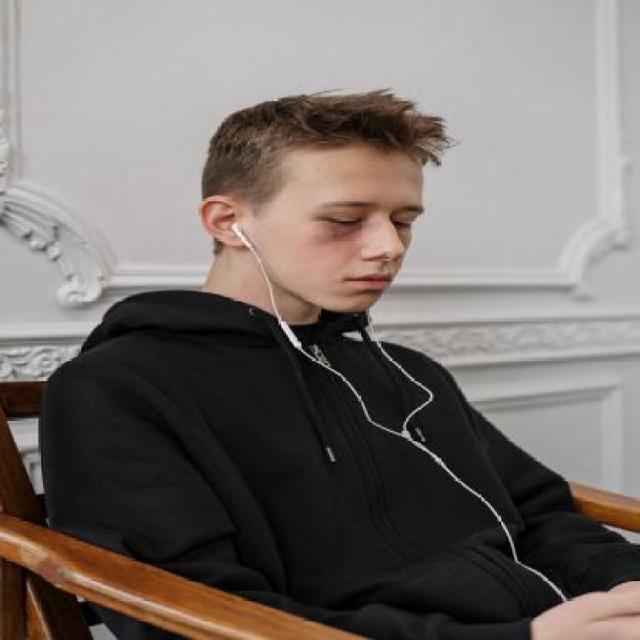closed-mouth: (346, 266, 400, 296)
